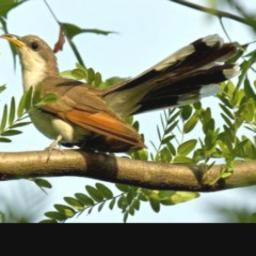Cuckoo: (0, 33, 242, 156)
